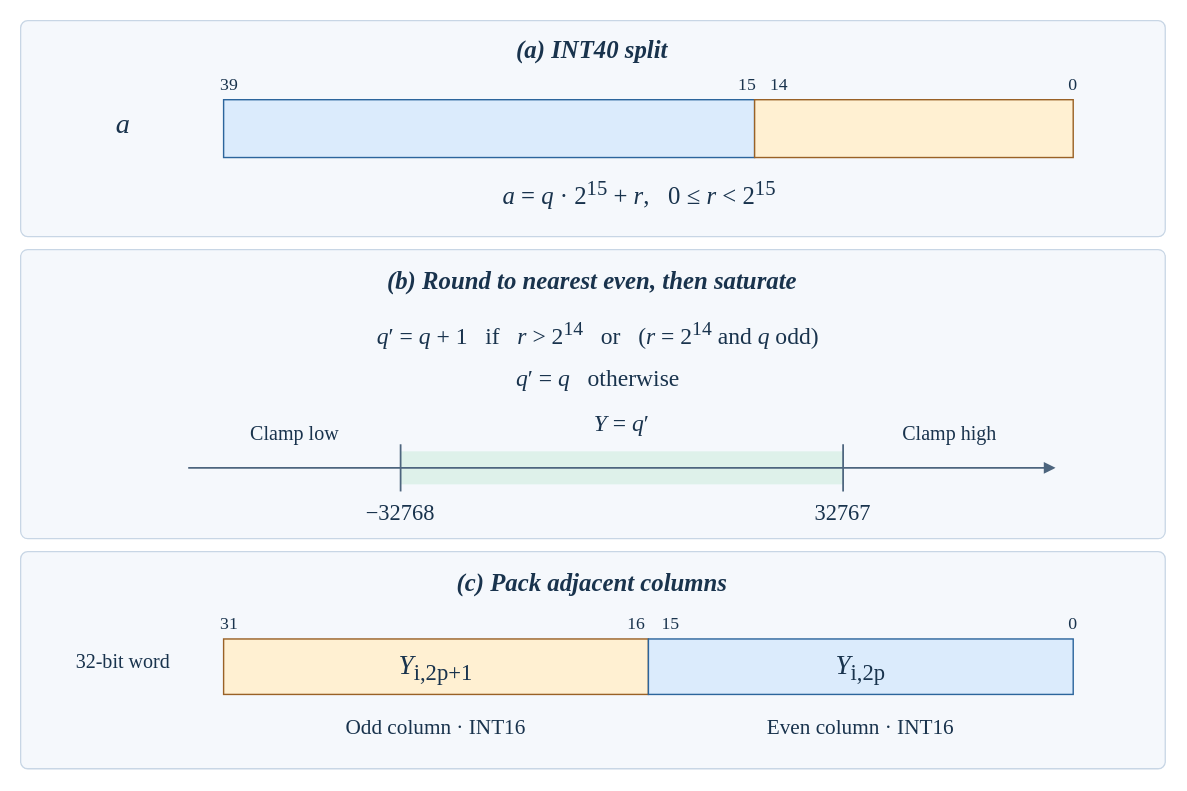
This 1187x791 diagram has some shape labels left out. The centre of each missing label's shape, as x and y in pixels:
"q: signed 25 bits" belongs at [488,128].
"r: 15 bits" belongs at [913,128].
